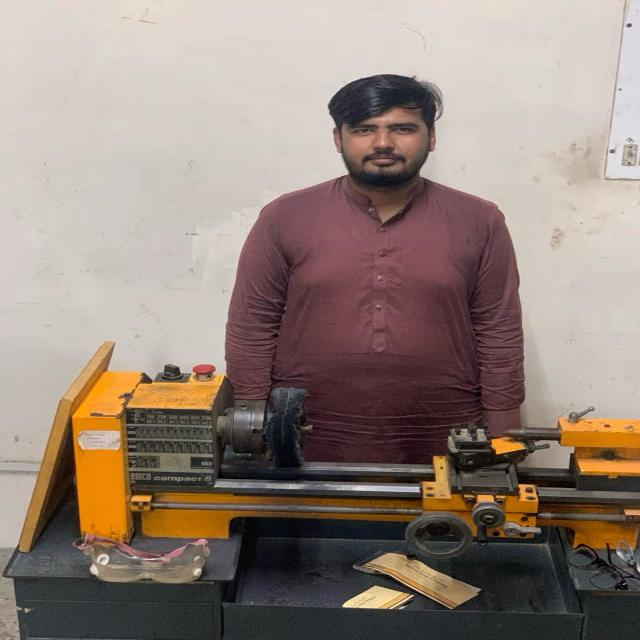dress: (216, 162, 535, 477)
